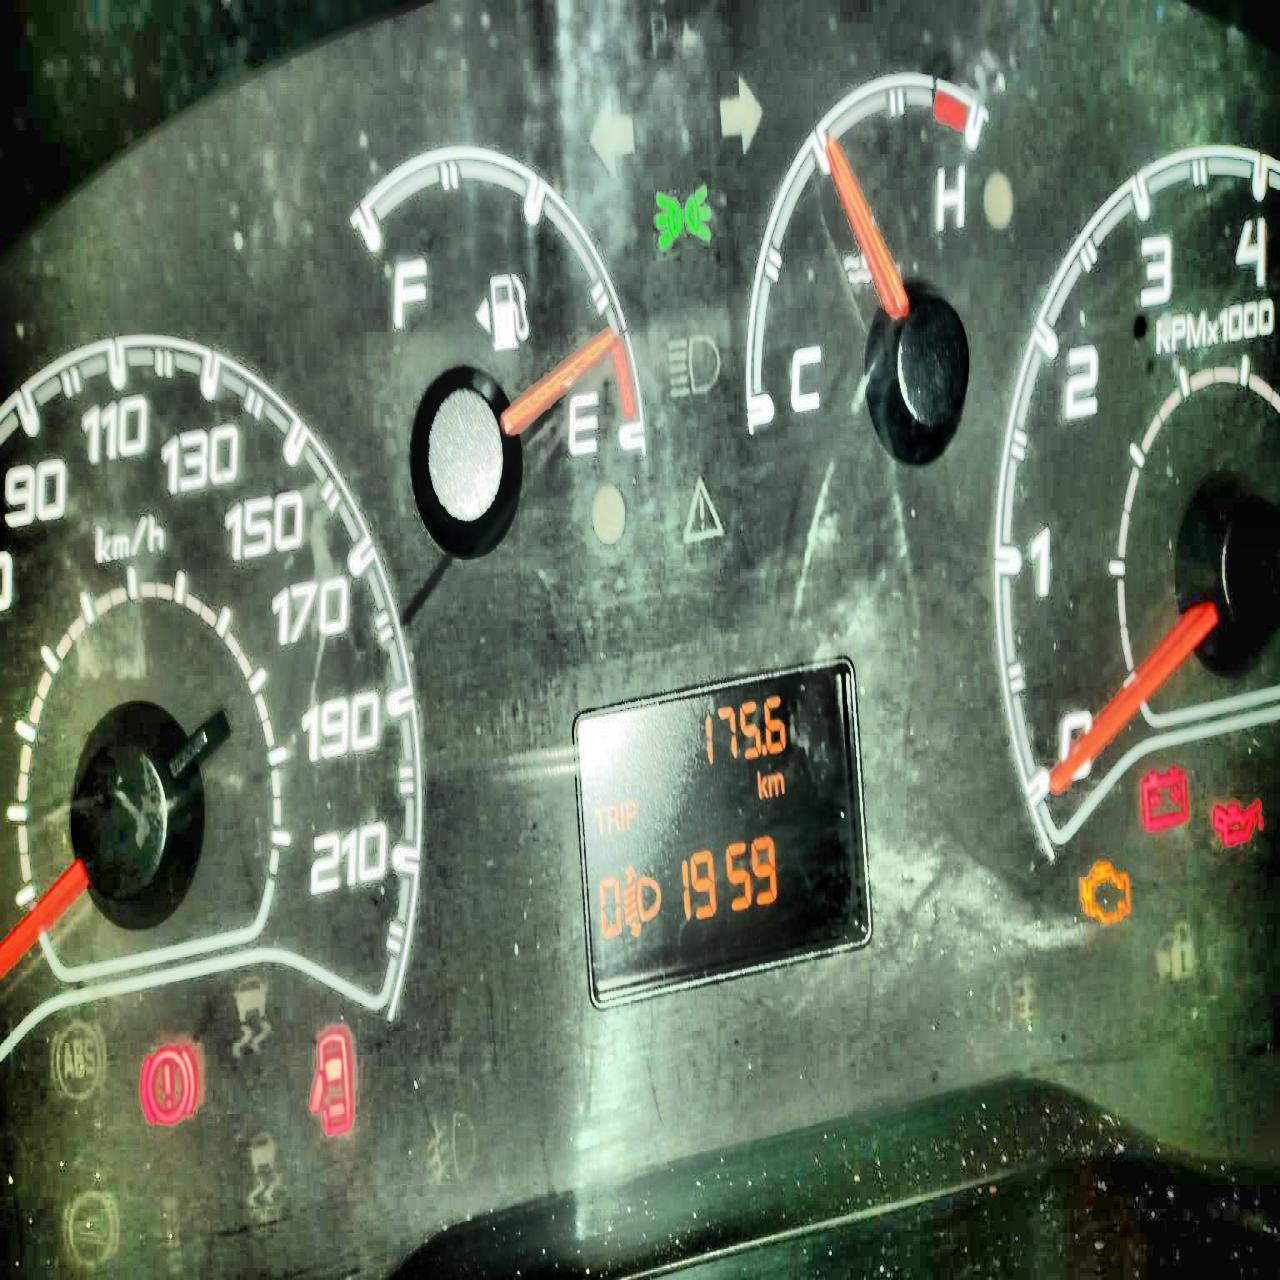-: (761, 743, 768, 756)
0: (598, 874, 621, 938)
1: (680, 858, 692, 920), (704, 714, 714, 764)
5: (726, 840, 751, 910), (738, 700, 760, 758)
6: (763, 694, 787, 753)
7: (717, 706, 737, 758)
9: (750, 835, 778, 905), (692, 847, 717, 920)
X: (592, 804, 606, 837), (768, 772, 784, 797), (607, 803, 619, 835), (625, 798, 635, 830), (757, 769, 768, 798), (619, 802, 624, 832)
odometer: (567, 648, 878, 1016)
